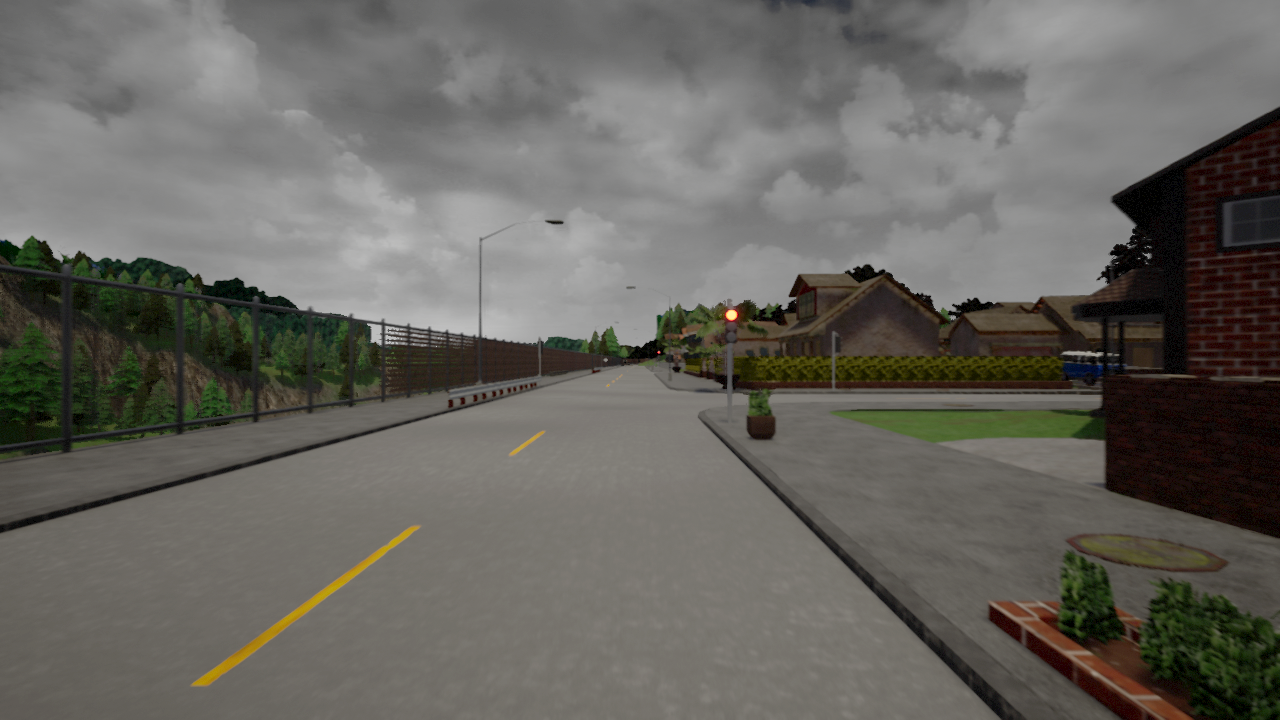red: (724, 307, 738, 342)
